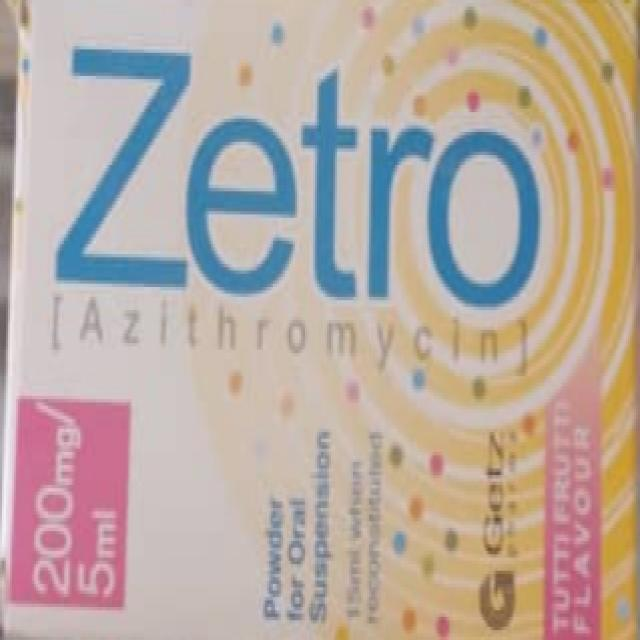drug-name: (47, 43, 539, 311)
